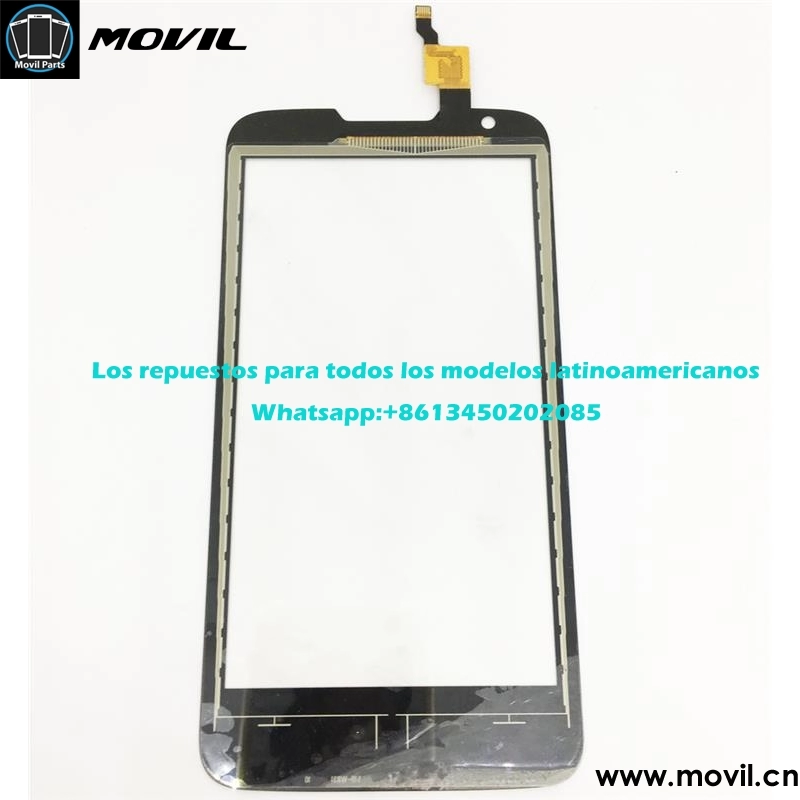phone: (191, 93, 594, 800)
